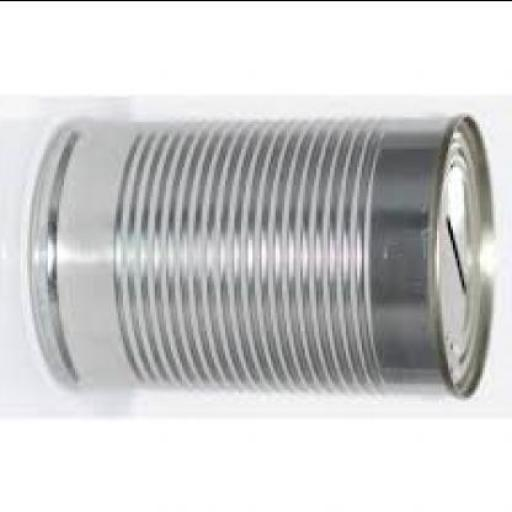metal: (30, 116, 496, 398)
